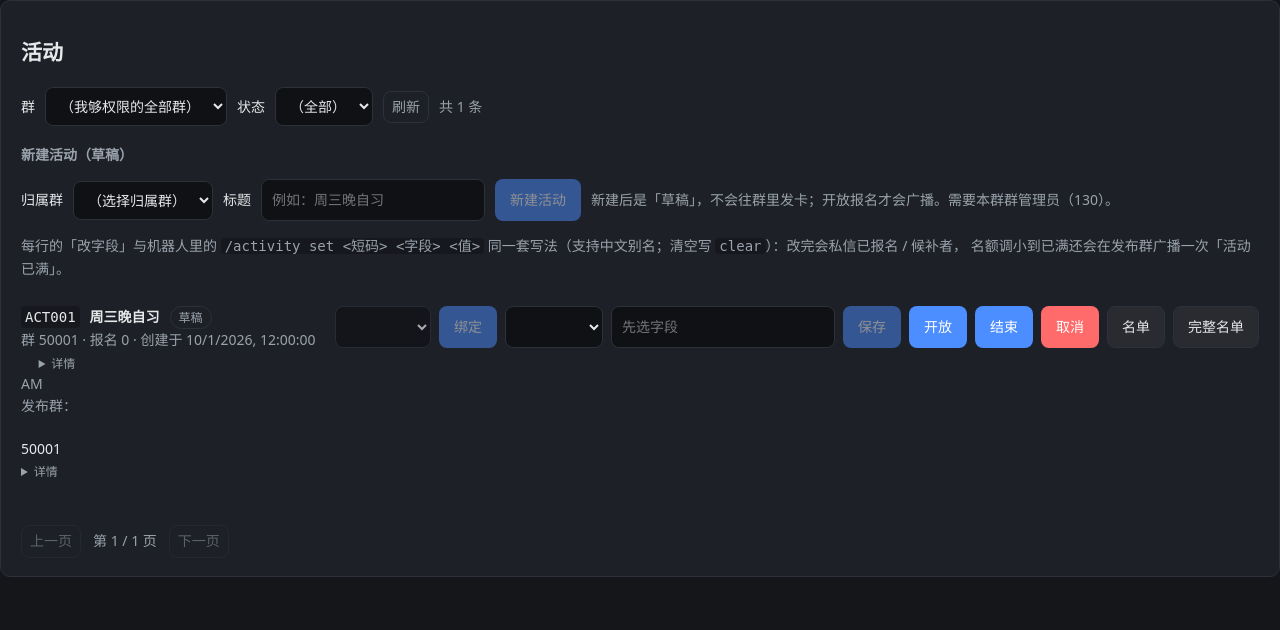
Scenario: ActivitiesView › 改字段：写法与 /activity set 一致，回执显示「旧值 → 新值」并刷新列表
The image size is (1280, 630).
Select "名额" in the dropdown with id "activity-field-ACT001": (554, 327) [505,306,603,348]
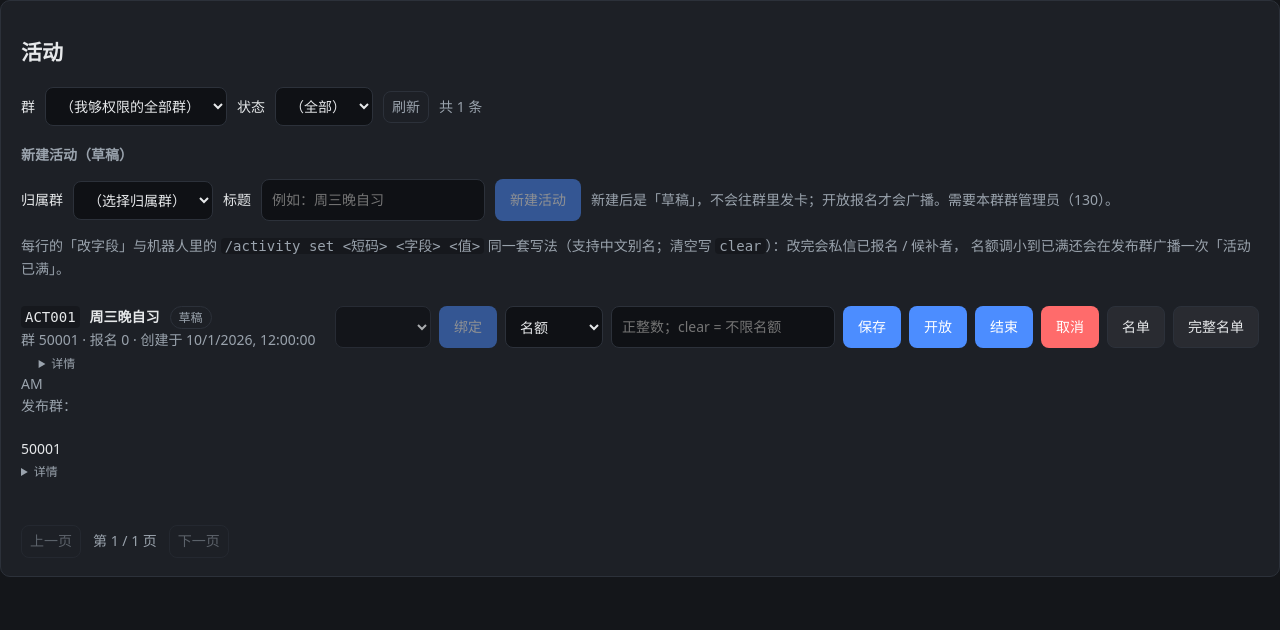
In the field with id "activity-value-ACT001": (723, 327) [611,306,835,348], type "10"
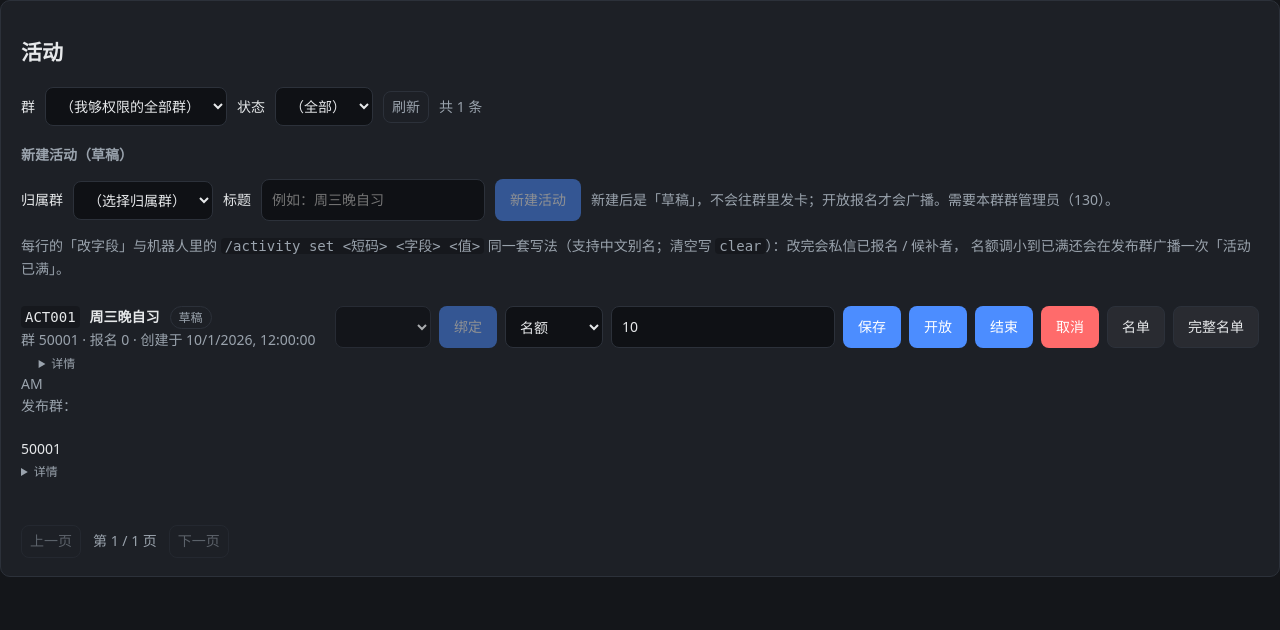
Click the button with id "activity-field-save-ACT001": (872, 327) [843,306,901,348]
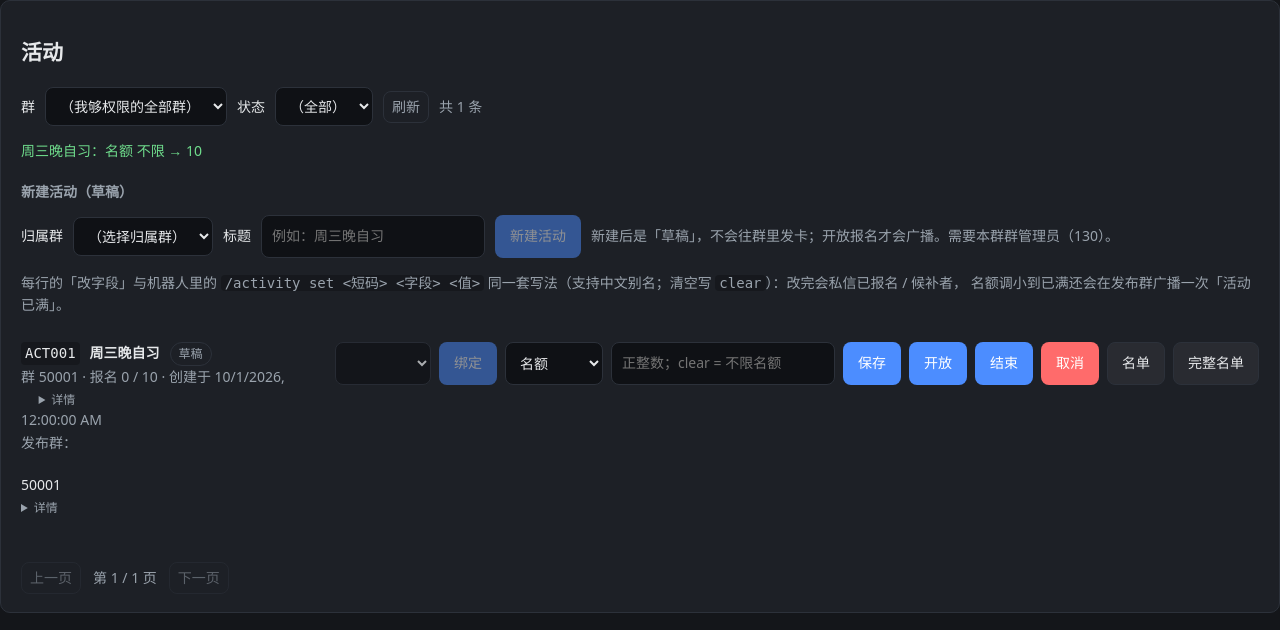
Expected: the text "周三晚自习：名额 不限 → 10" is shown, [21,141,202,160]
Expected: the text "/ 10" is shown, [129,367,158,386]
